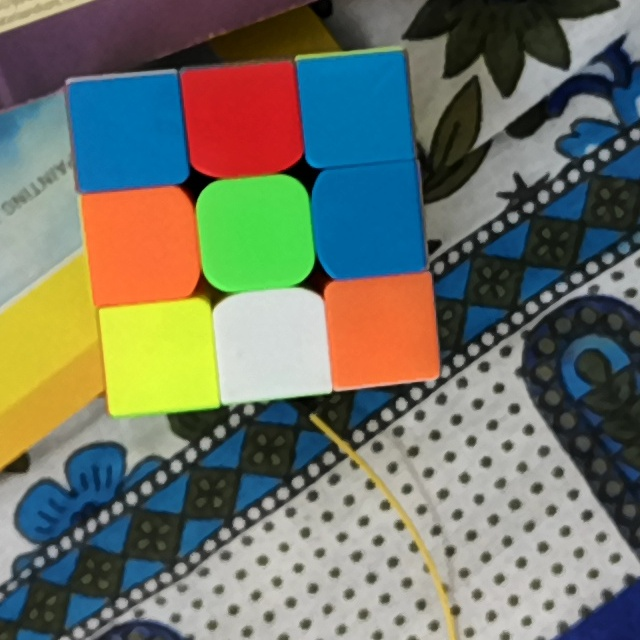tile: (194, 72, 292, 166), (308, 60, 401, 156), (85, 81, 177, 177), (325, 171, 416, 266), (110, 312, 208, 399), (337, 284, 430, 375), (97, 200, 187, 294), (223, 305, 320, 390), (210, 191, 301, 276)
